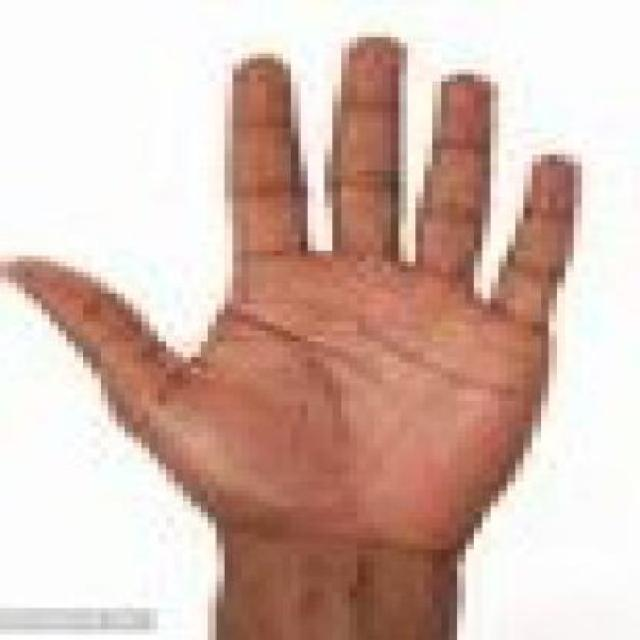no-gloves: (2, 10, 617, 581)
